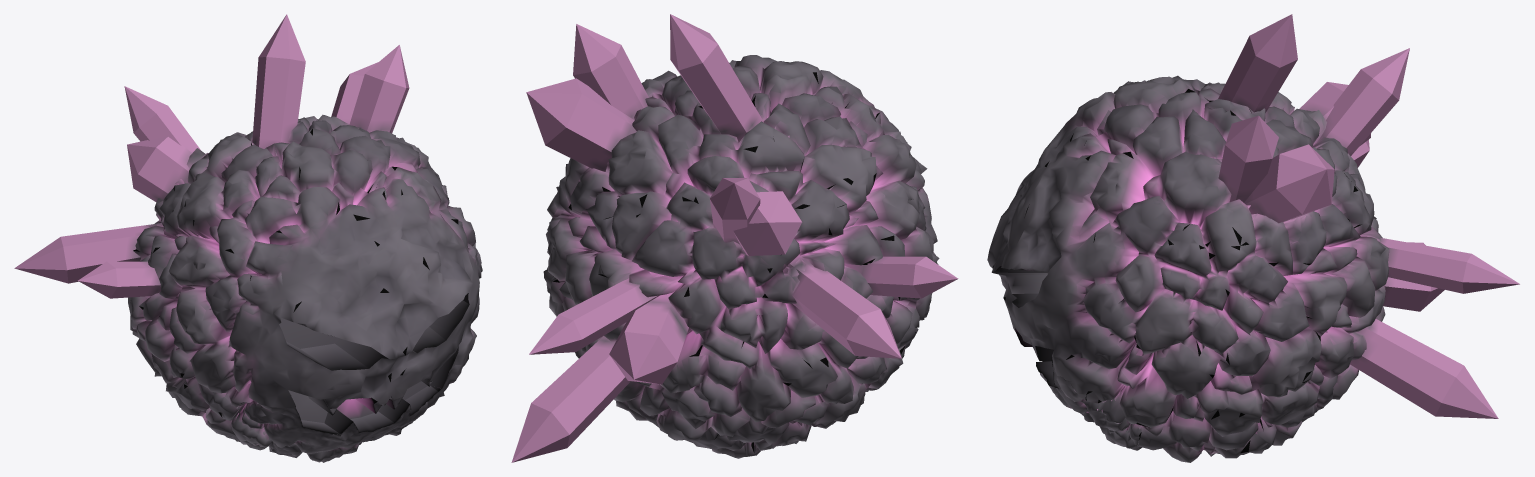
The model's file is Crystal.fbx.
3 renders of one model, left to right at view 1: azimuth 30°, elevation 25°; view 2: azimuth 150°, elevation 25°; view 3: azimuth 270°, elevation 25°, orthographic. The views are drawn at different scales.
Parts seen in each view (by area): view 1: Body, Jaw; view 2: Body; view 3: Body, Jaw.
Boxes of the visible parts, left/top/right/bottom form: Body: left=14, top=14, right=482, bottom=457; Jaw: left=231, top=358, right=466, bottom=462; Body: left=511, top=14, right=958, bottom=462; Body: left=987, top=14, right=1519, bottom=462; Jaw: left=1016, top=332, right=1141, bottom=450.
Bounding box in the file's own units: 1.23 × 1.27 × 1.38.
2 materials, 2 textured.
